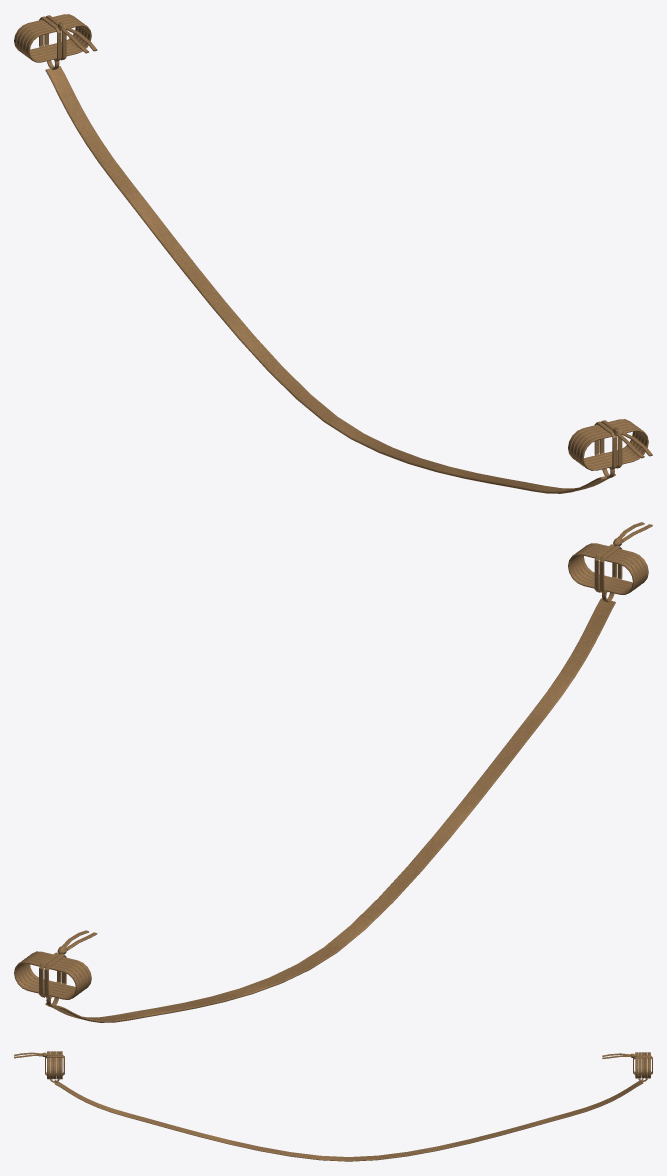
The model's file is spear_pair_tie.glb.
3 renders of one model, top to bottom at view 1: azimuth 30°, elevation 25°; view 2: azimuth 150°, elevation 25°; view 3: azimuth 270°, elevation 25°, orthographic. The views are drawn at different scales.
Visible parts, largest first — view 1: ThongPreview, SpearTie; view 2: ThongPreview, SpearTie; view 3: ThongPreview, SpearTie.
Boxes of the visible parts, box(x1,y1,x2,y2) form: ThongPreview: box(45, 66, 615, 493); SpearTie: box(14, 14, 652, 478); ThongPreview: box(45, 598, 615, 1022); SpearTie: box(14, 522, 652, 1007); ThongPreview: box(54, 1079, 643, 1161); SpearTie: box(14, 1051, 652, 1082).
Bounding box in the file's own units: 0.0668 × 0.193 × 1.04.
1 material, 1 textured.
